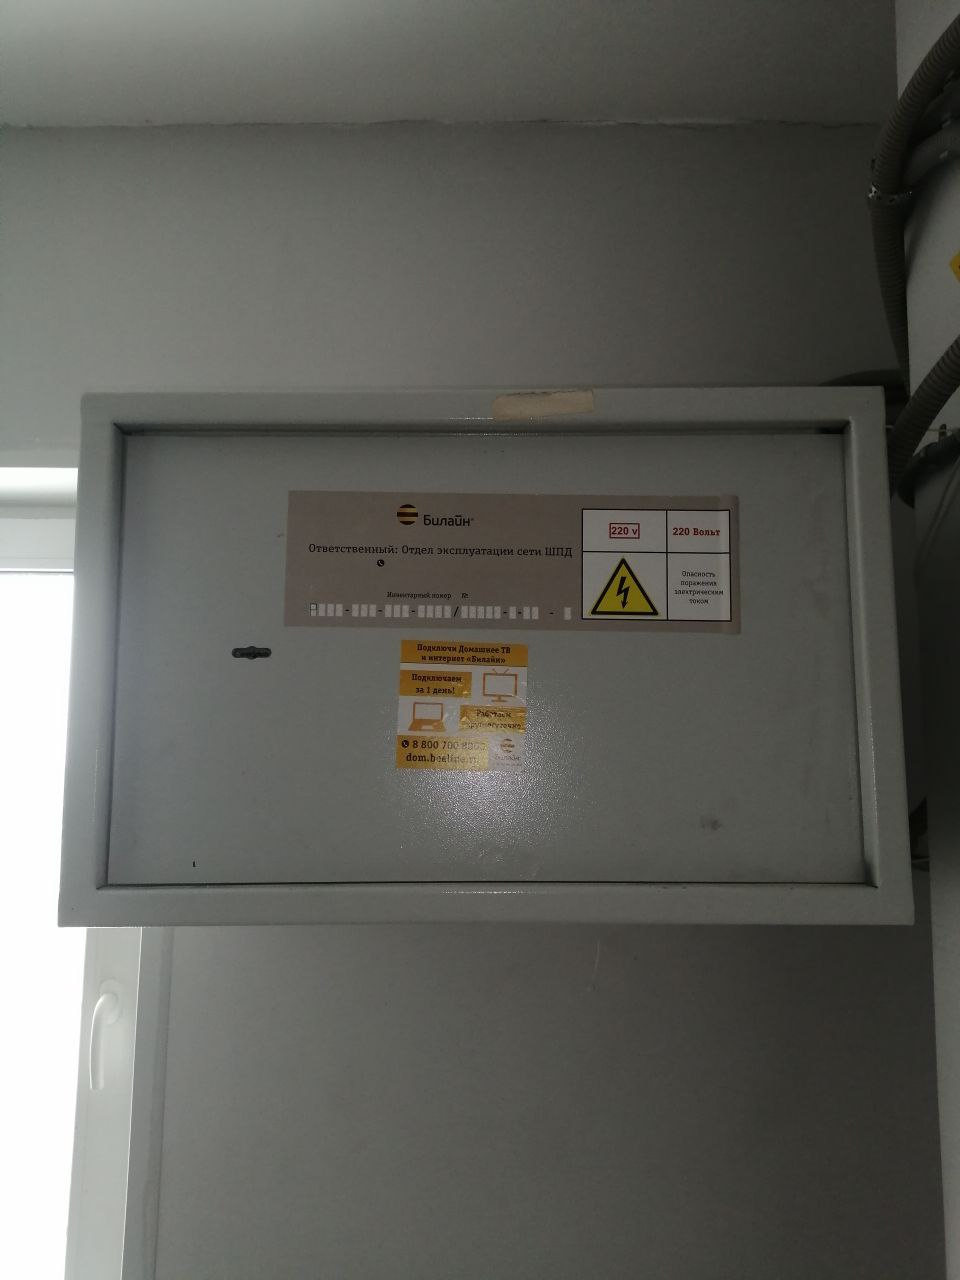shta-7m: (43, 376, 931, 937)
